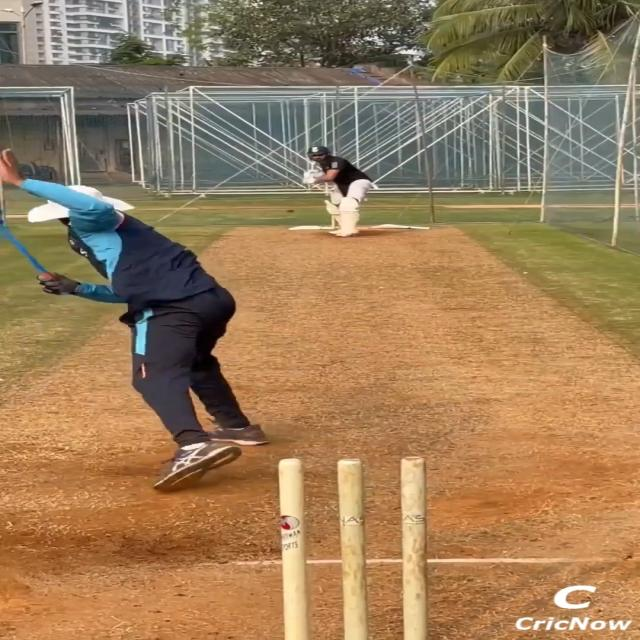Cricket ball: (272, 454, 432, 640), (286, 208, 295, 214)
